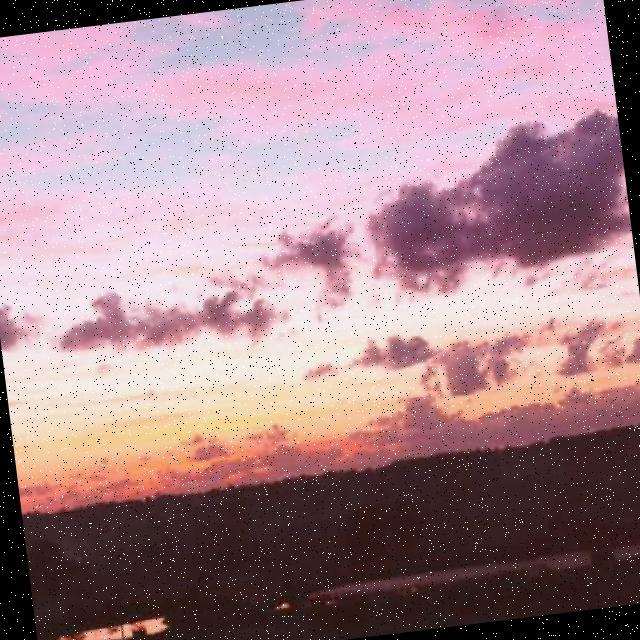Sc: (258, 96, 640, 333)
